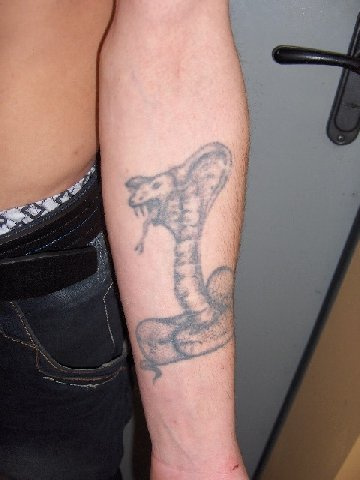tatu7_zmeya: (116, 149, 241, 386)
